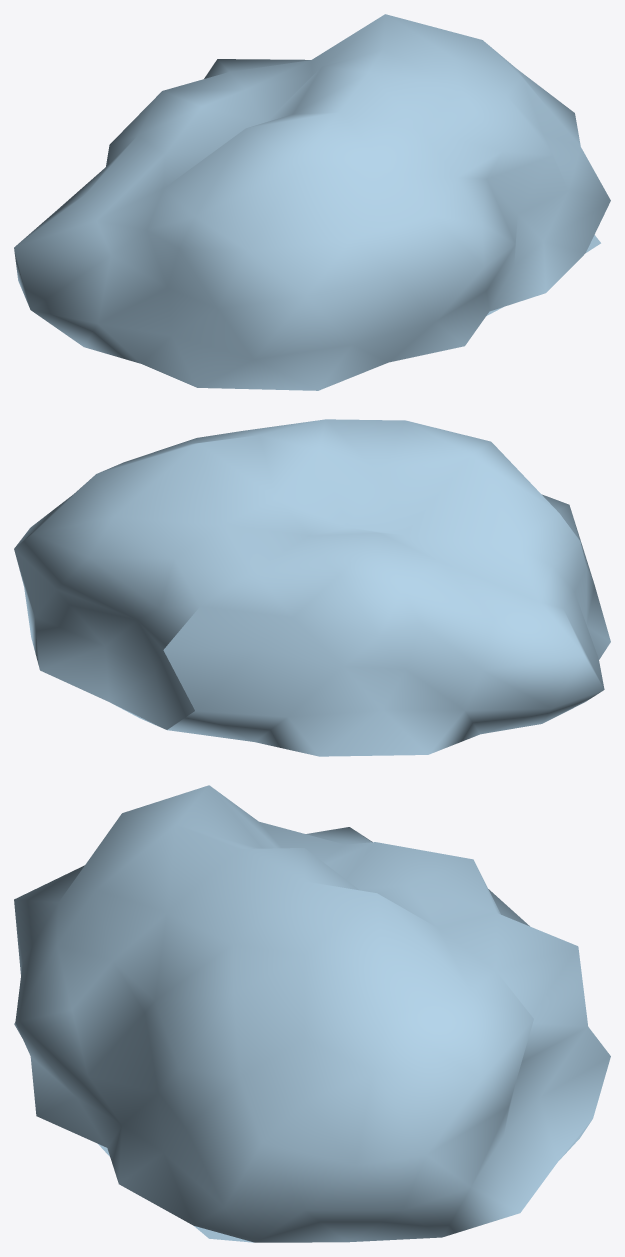
File: ice_rock_b.glb
3 views of the same model, one above another, from view 1: azimuth 30°, elevation 25°; view 2: azimuth 150°, elevation 25°; view 3: azimuth 270°, elevation 25° (orthographic). The views are drawn at different scales.
Parts seen in each view (by area): view 1: ice_rock; view 2: ice_rock; view 3: ice_rock.
Boxes of the visible parts, x1=… form: ice_rock: x1=14, y1=14, x2=610, y2=390; ice_rock: x1=14, y1=419, x2=610, y2=756; ice_rock: x1=14, y1=785, x2=610, y2=1242.
Bounding box in the file's own units: 2.61 × 0.9493 × 1.98.
